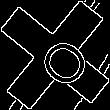O_NW: (21, 22, 89, 88)
